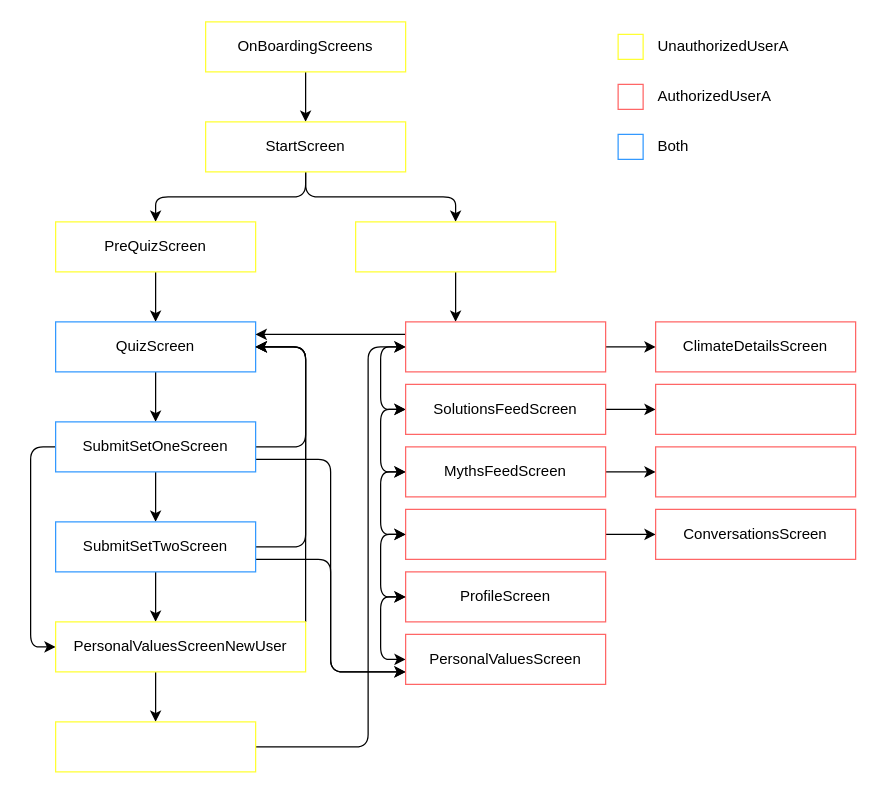
The diagram is 878 pixels wide and 794 high, and some of its shapes have lost their labels. Here are the shapes that lost their labels. From the top down, the box of each, then its label:
(354, 221, 556, 272): LoginScreen
(404, 321, 606, 372): ClimateFeedScreen
(654, 383, 856, 434): SolutionDetailsScreen
(654, 446, 856, 497): MythDetailsScreen
(404, 508, 606, 559): ConversationsIntroScreen
(54, 721, 256, 772): SignUpScreen
